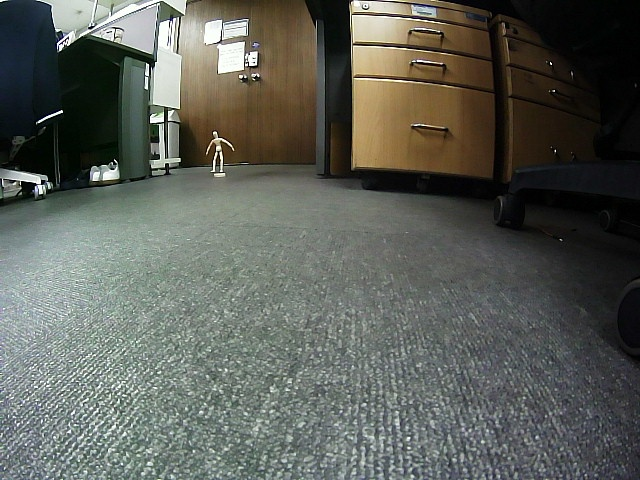person: (205, 131, 234, 173)
